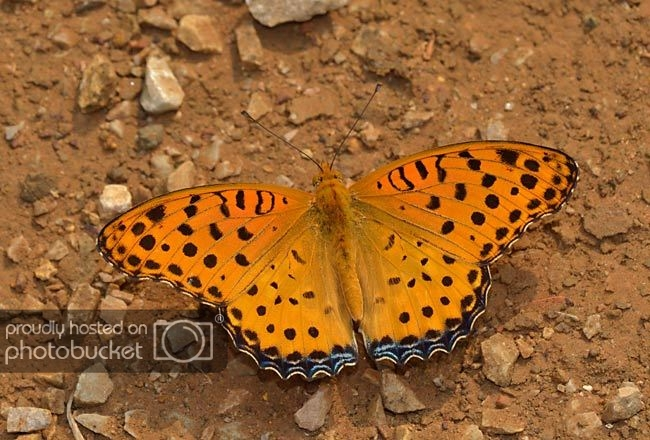Argyreus hyperbius: (93, 79, 583, 380)
butterfly: (95, 81, 585, 382)
